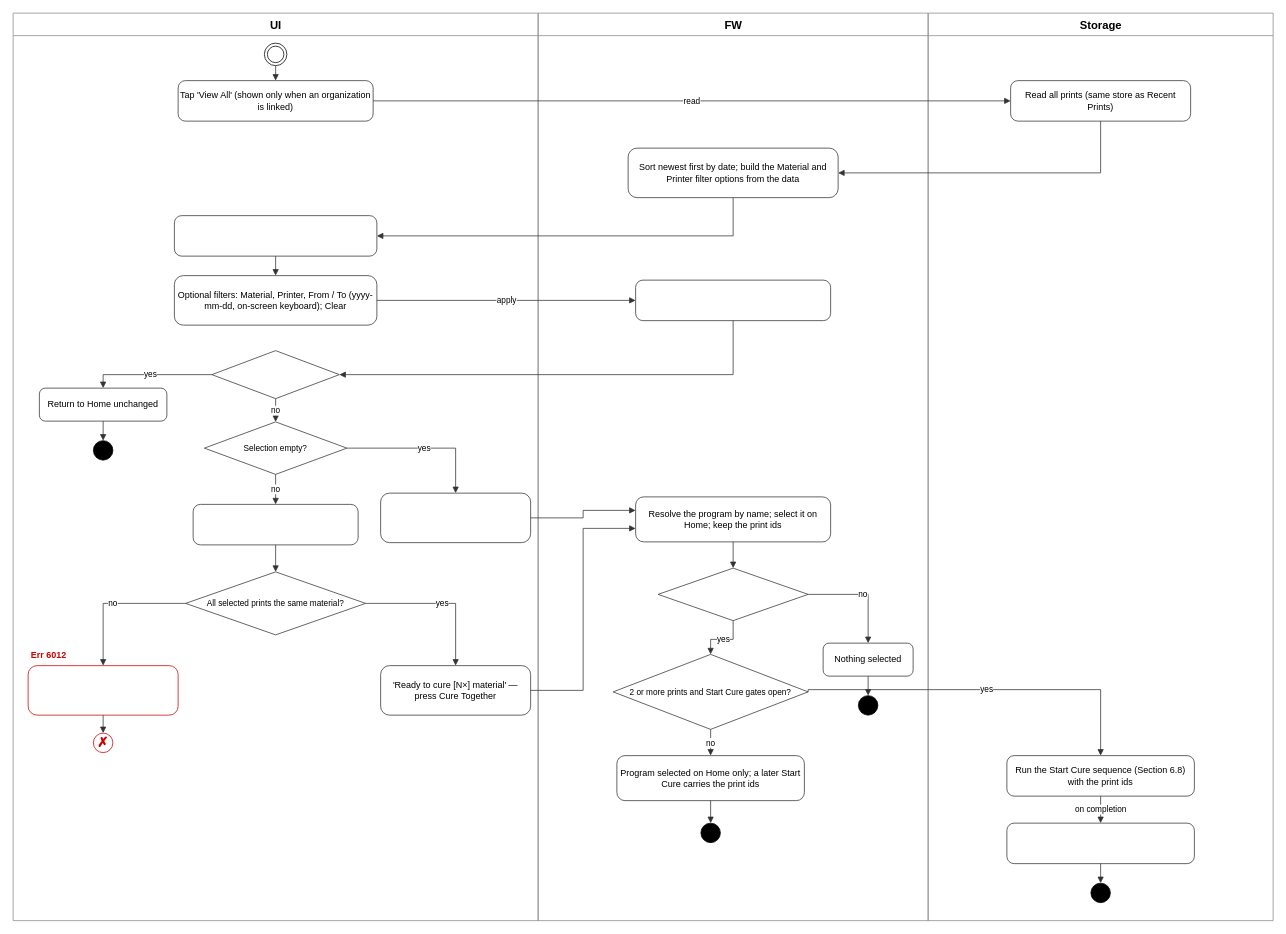
This 1286x934 diagram has some shape labels left out. The shapes that lost their labels are listed below. From the top down, each one's centre as x and y in pixels, then its label:
[275,235]: Open Print History: 'Print History (n)', or '(shown/total)' when filtered
[733,300]: Apply filters (AND; To includes the whole day); the selection is kept
[275,374]: Close pressed?
[275,524]: Tap / checkbox toggles rows in the selection
[455,517]: Tap a row: close with that print's material and print id
[732,594]: Program found?
[102,690]: 'Cannot cure different materials together!' — Cure Together disabled
[1100,843]: When the cure completes: remove those print rows from the history
